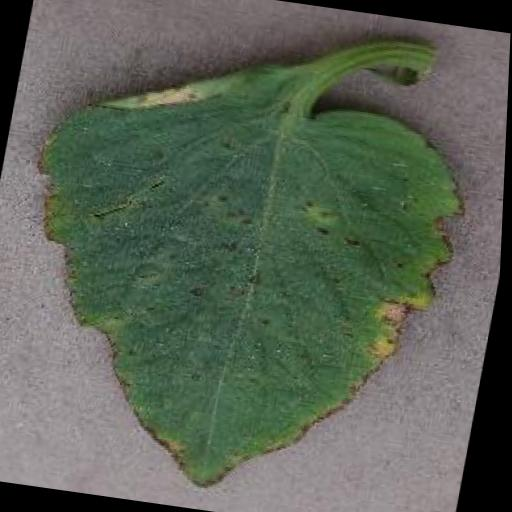Bacterial Spot: (0, 35, 493, 512)
